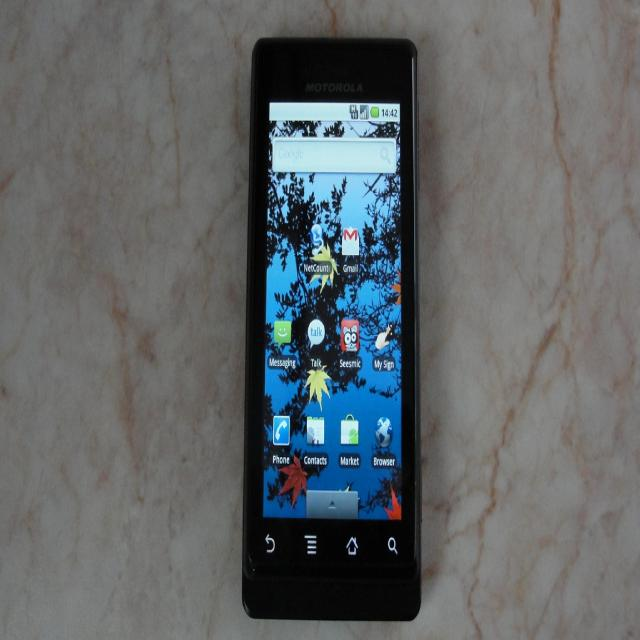Mobile-phone: (236, 19, 435, 605)
